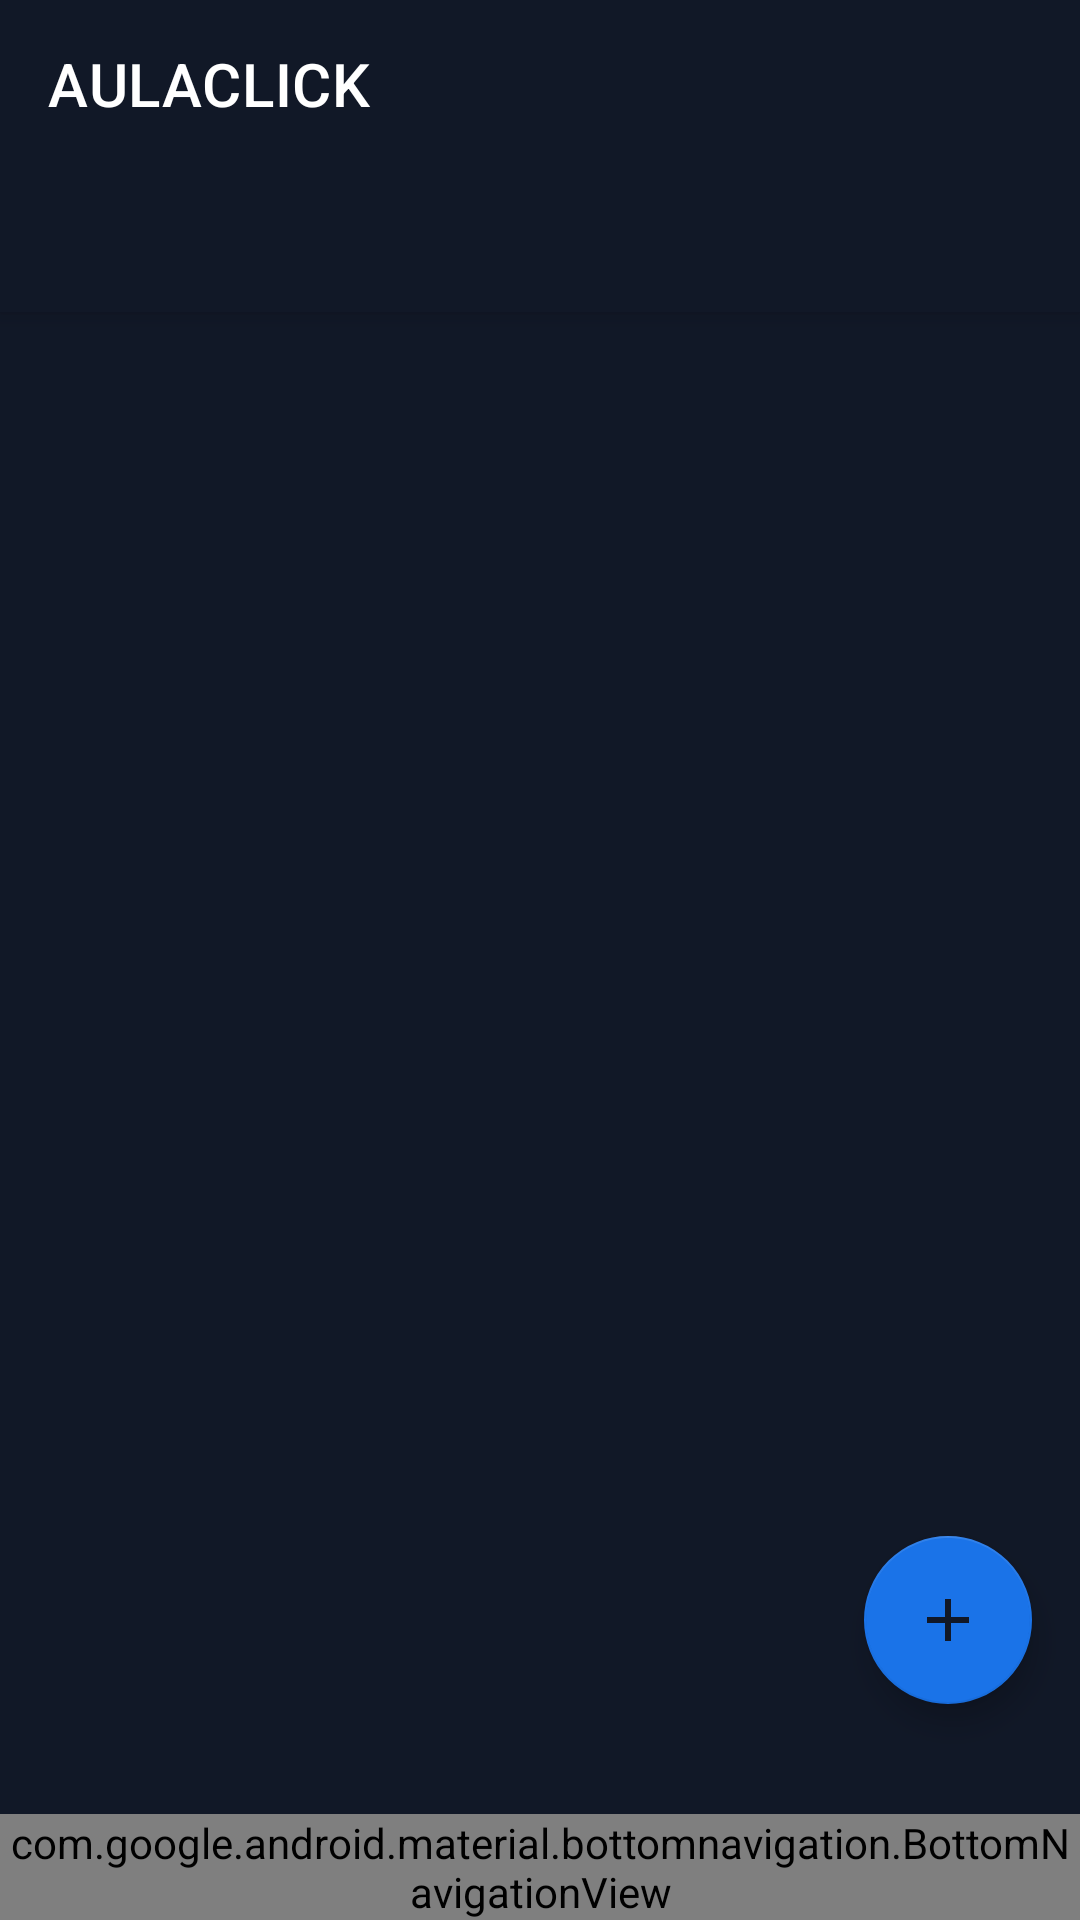

Icons on this 1080w x 1920h Android screen, each with its box as BBox(x1, y1, x2, y2):
Añadir Recurso: BBox(864, 1536, 1032, 1704)
